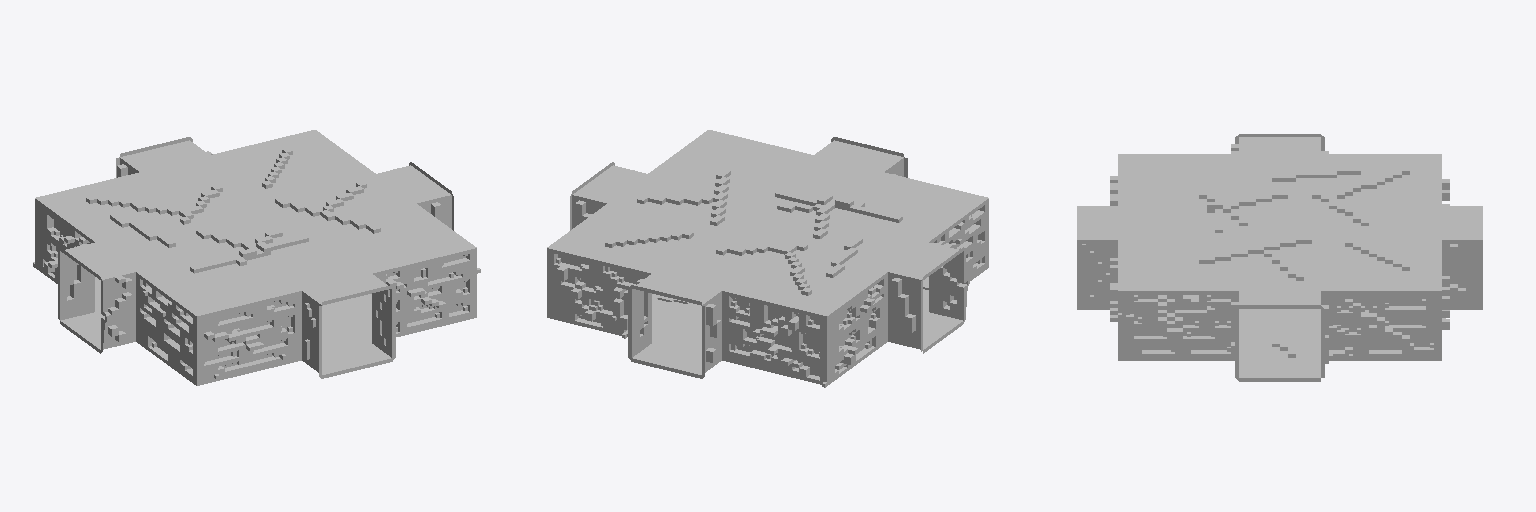
Rendered from room_0.obj.
The picture shows the model from 3 angles: view 1: azimuth 30°, elevation 25°; view 2: azimuth 150°, elevation 25°; view 3: azimuth 270°, elevation 25°; orthographic projection.
Visible parts, largest first — view 1: backup; view 2: backup; view 3: backup.
Boxes of the visible parts, x1,y1,x2,y2 form: backup: [33, 130, 480, 385]; backup: [547, 130, 988, 387]; backup: [1077, 134, 1482, 381].
Bounding box in the file's own units: 10 × 2.2 × 10.